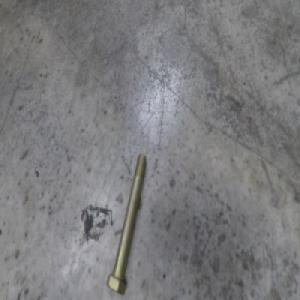Bolt: (107, 152, 146, 294)
